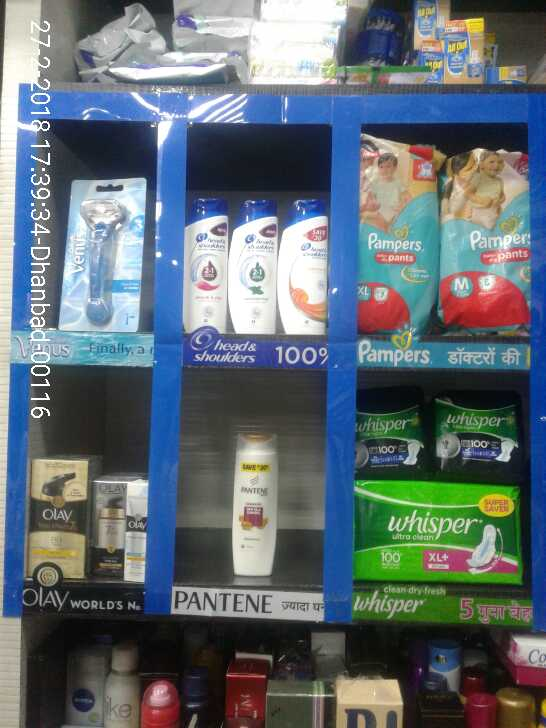venus: (60, 179, 141, 329)
